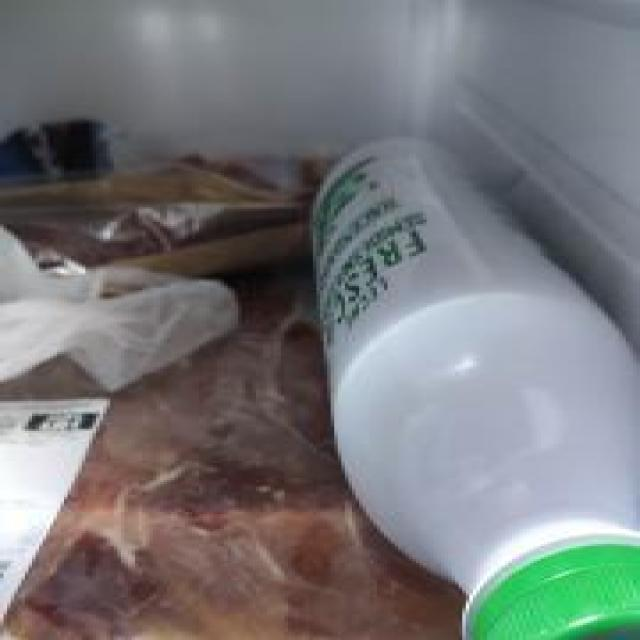milk: (284, 119, 640, 640)
